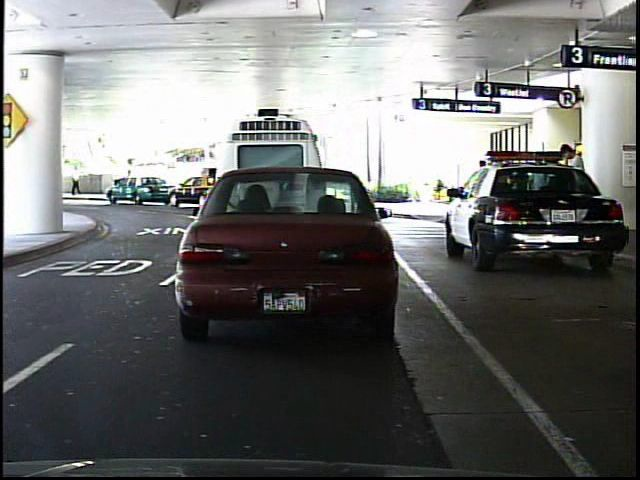person: (557, 137, 591, 241), (121, 167, 140, 199), (71, 162, 84, 197)
